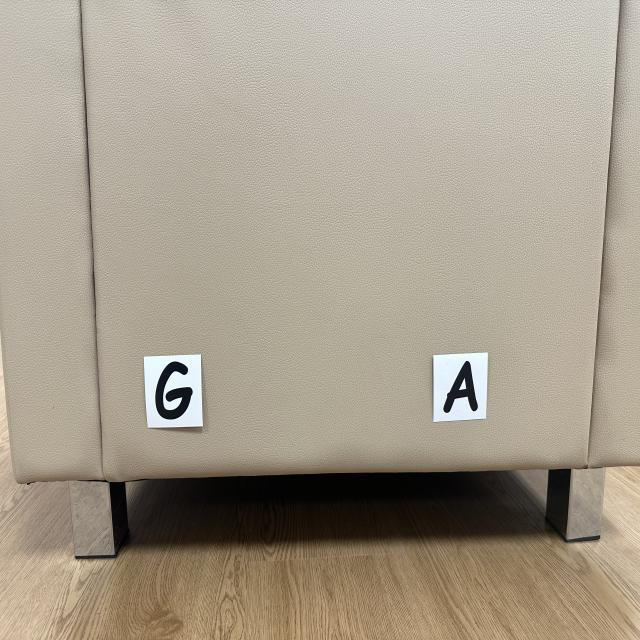A: (444, 362, 478, 413)
G: (155, 362, 192, 420)
